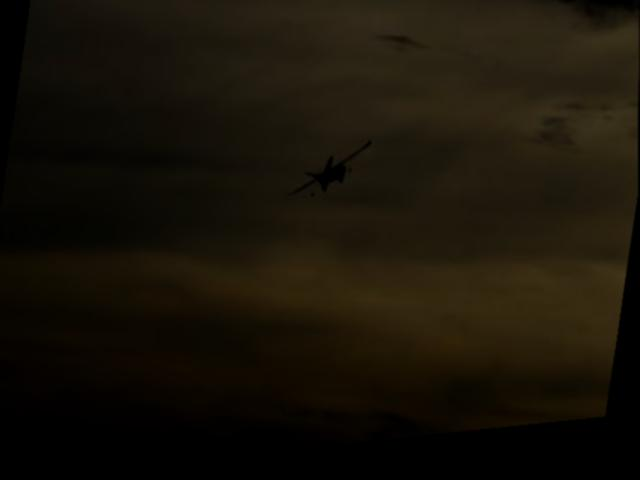uav: (292, 135, 371, 220)
